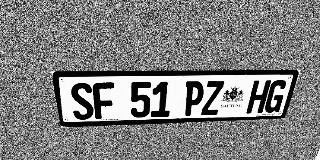1: (151, 81, 172, 117)
5: (131, 82, 151, 118)
F: (92, 82, 115, 119)
G: (263, 80, 289, 113)
H: (246, 80, 271, 114)
P: (182, 81, 205, 116)
S: (69, 83, 95, 120)
Z: (201, 81, 224, 115)
